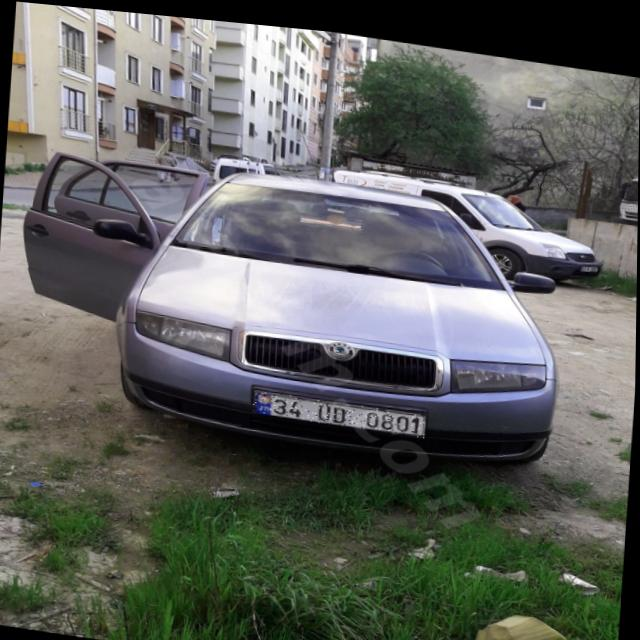license_plate: (254, 385, 427, 430)
